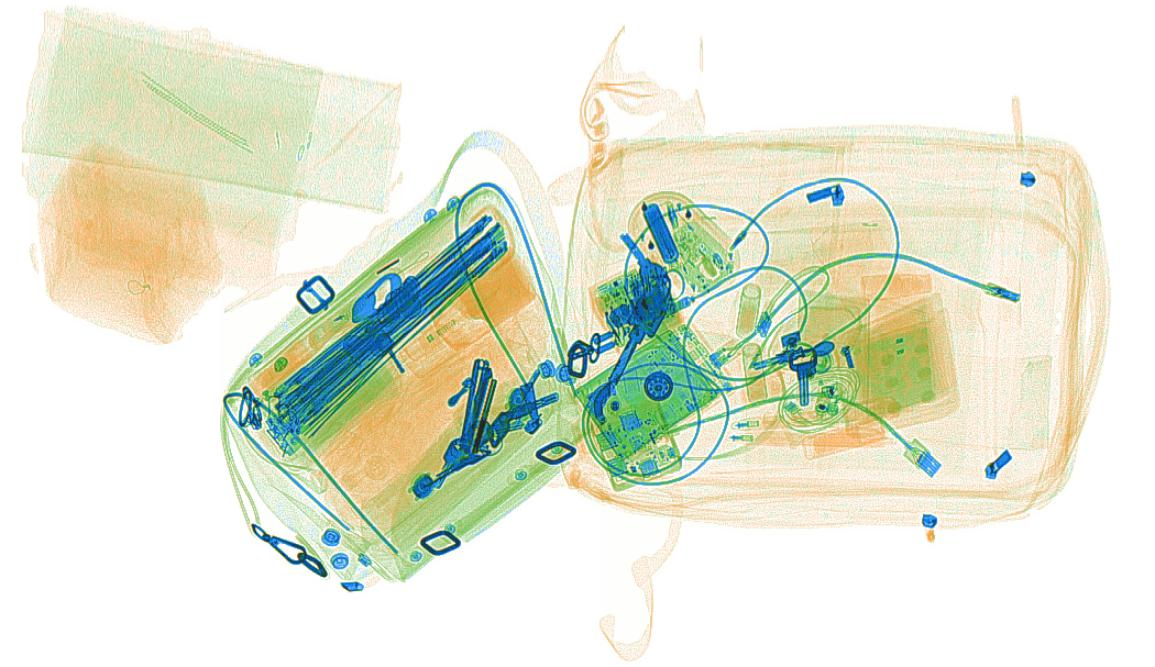battery: (640, 201, 679, 264)
plasticBottleWithaNozzle: (397, 246, 537, 379)
